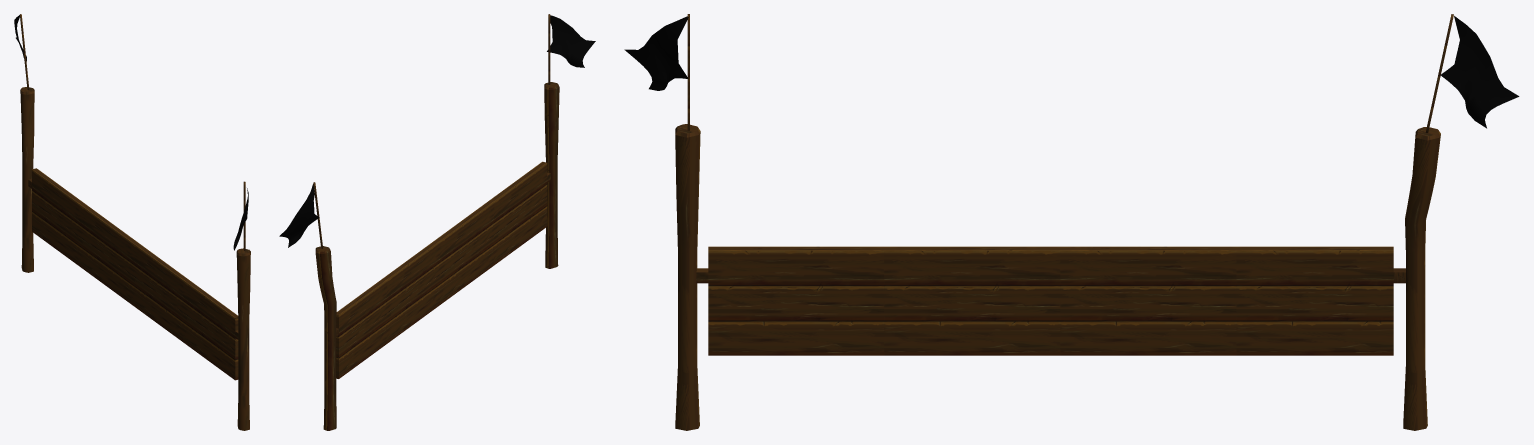
File: Startingline.FBX
3 renders of one model, left to right at view 1: azimuth 30°, elevation 25°; view 2: azimuth 150°, elevation 25°; view 3: azimuth 270°, elevation 25°, orthographic. The views are drawn at different scales.
Visible parts, largest first — view 1: Box001; view 2: Box001, Object018, Object019; view 3: Box001, Object019, Object018.
Boxes of the visible parts, x1=… form: Box001: x1=20, y1=14, x2=250, y2=430; Box001: x1=313, y1=14, x2=559, y2=430; Object018: x1=547, y1=15, x2=595, y2=67; Object019: x1=279, y1=184, x2=319, y2=247; Box001: x1=675, y1=14, x2=1453, y2=430; Object019: x1=1440, y1=16, x2=1519, y2=128; Object018: x1=624, y1=15, x2=689, y2=90.
Bounding box in the file's own units: 445 × 4616 × 2362.
2 materials, 2 textured.
